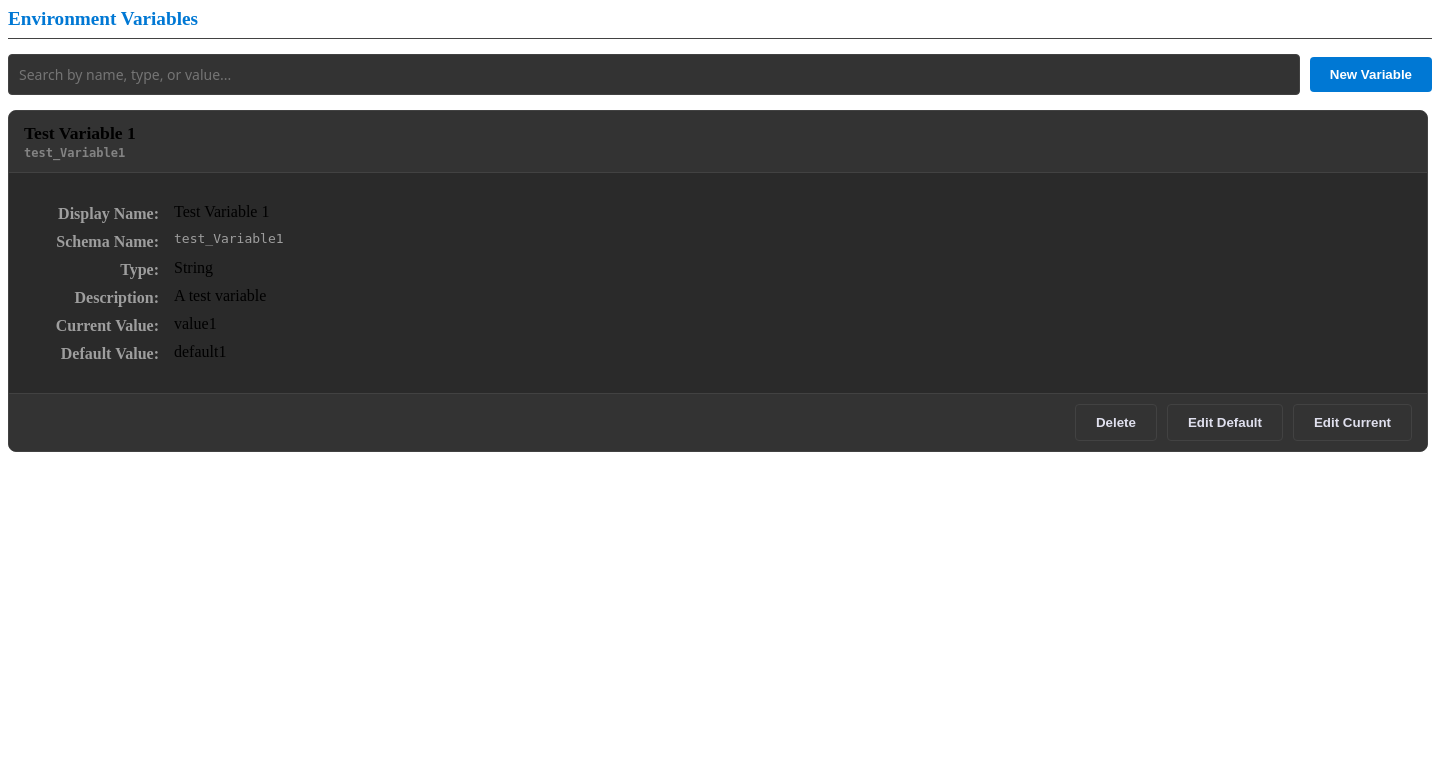
EnvVarsTab › solution selection and switching › should auto-add prefix to schema on blur if missing
The width and height of the screenshot is (1440, 769).
Step 1. Click the button with id "env-var-add-btn" → x=1371, y=74, box x1=1310 y1=57 x2=1432 y2=92
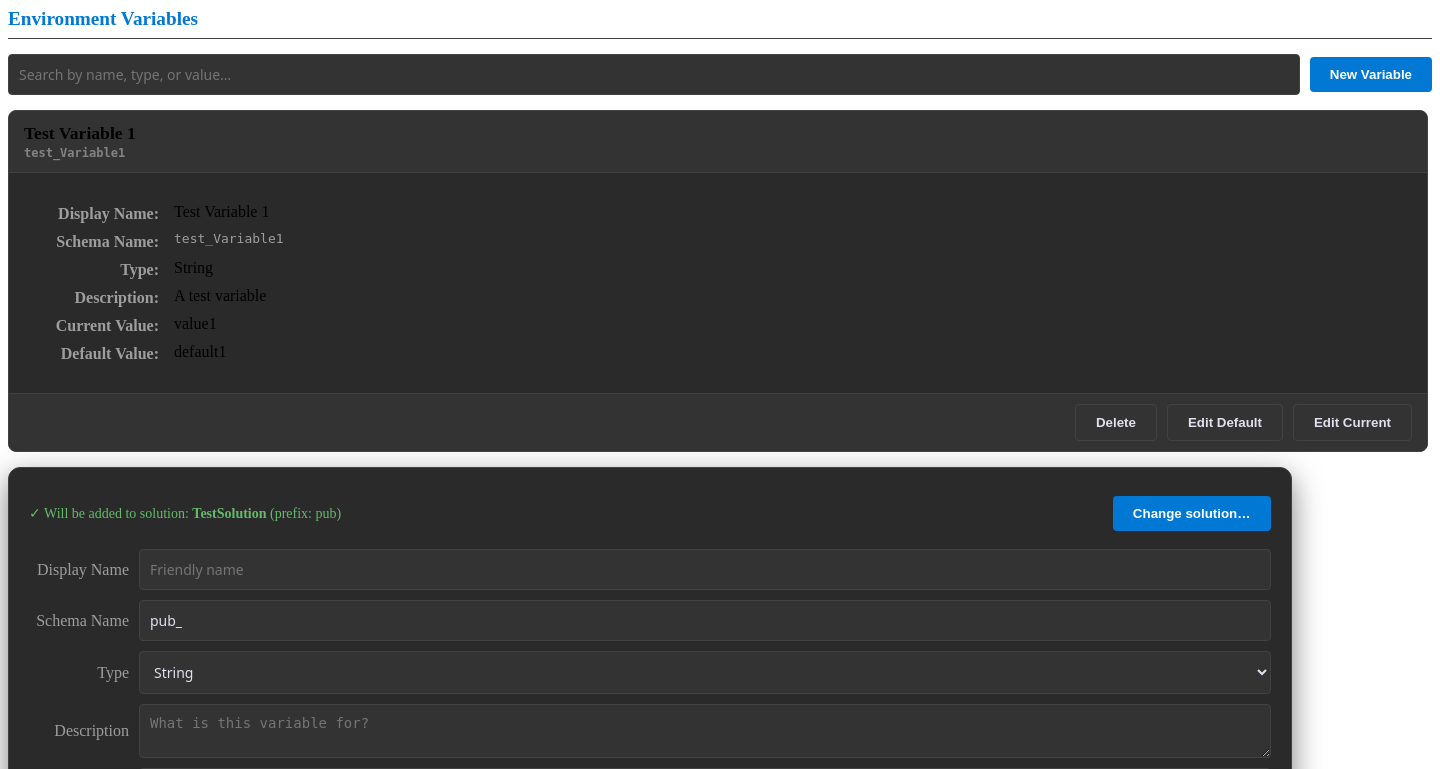
Step 2. Replace the text in the field with id "nv-schema" with "MyVariable" → x=705, y=620, box x1=139 y1=600 x2=1271 y2=641
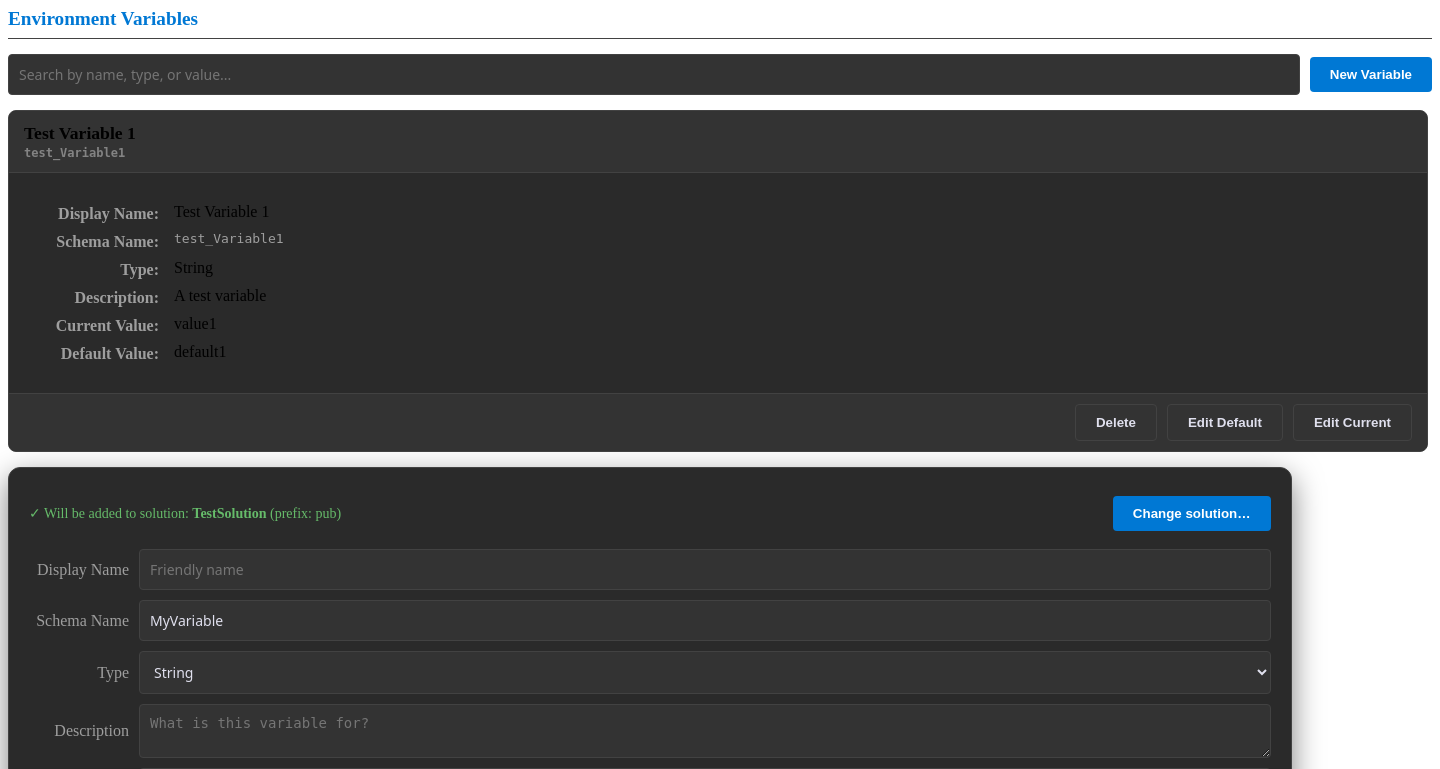
Step 3. Leave the field with id "nv-schema", box x1=139 y1=600 x2=1271 y2=641
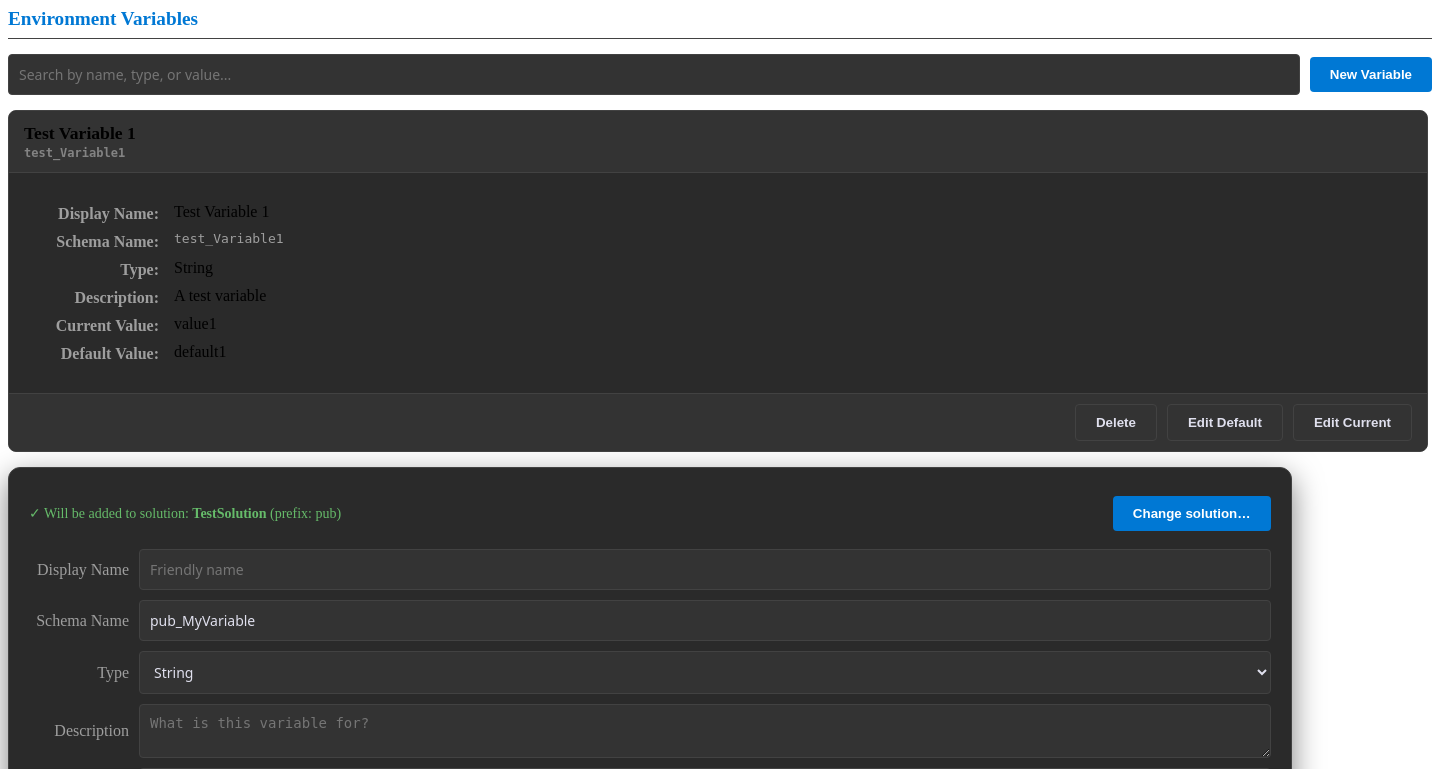
Expected: the field with id "nv-schema" holds "pub_MyVariable", x1=139 y1=600 x2=1271 y2=641
